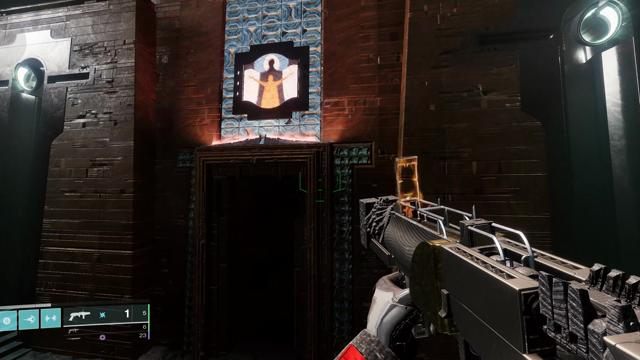worship: (244, 53, 298, 108)
